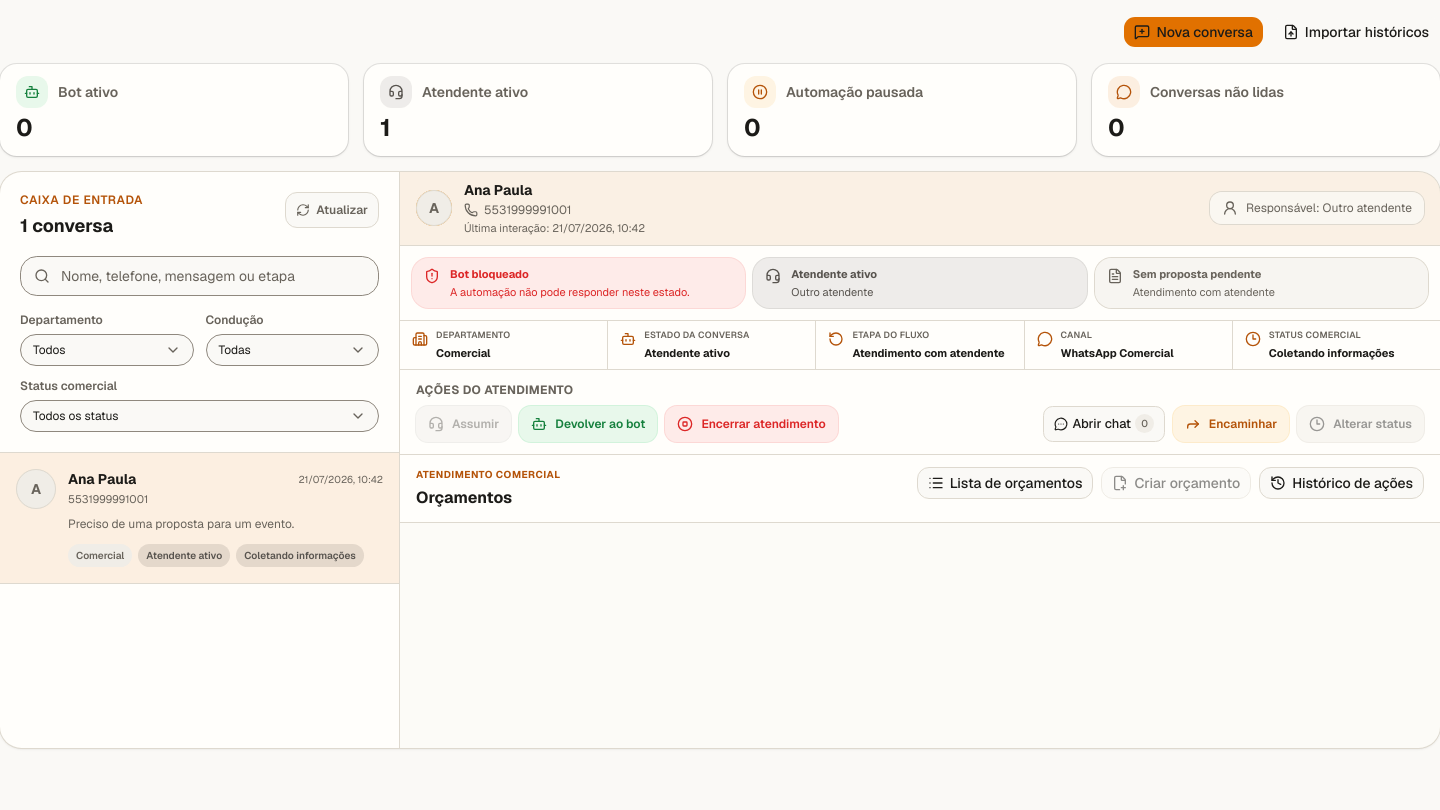
Test: ConversationWorkspace › blocks the composer until the current user owns a human-active conversation
Click the button named "Mensagens e anexos": (1104, 424) x1=1043 y1=406 x2=1165 y2=442
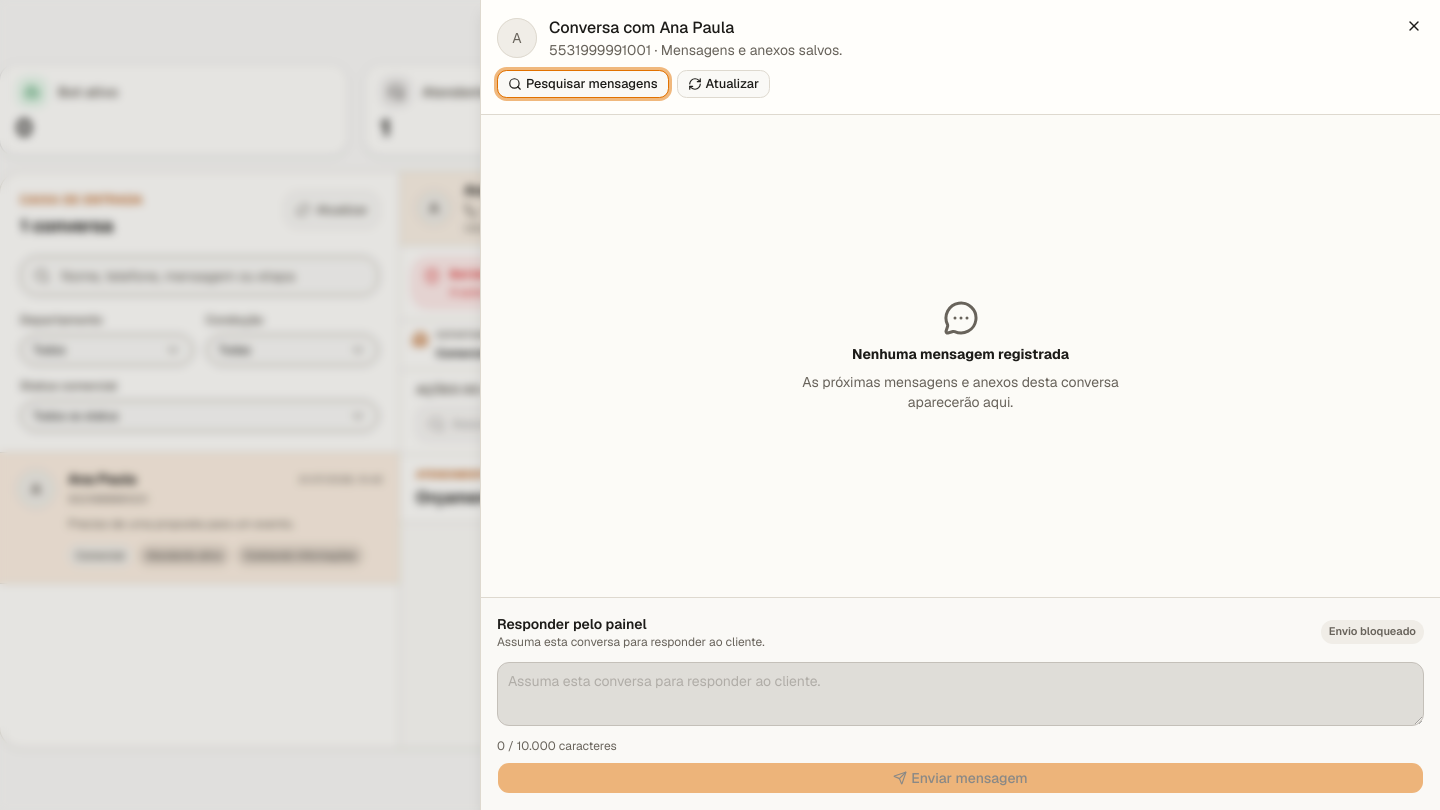
Expected: the button "Enviar mensagem" is disabled, x1=497 y1=762 x2=1424 y2=794
Expected: the text "Assuma esta conversa para responder ao cliente." is shown, x1=497 y1=634 x2=765 y2=650
